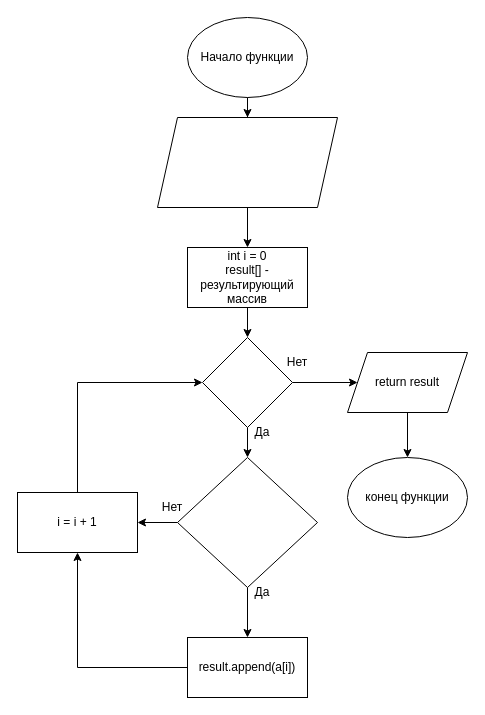
Image size: 485x715. Some labels were removed from this diagram. Each missing label, with the centre of its shape:
a[] - массив строк number - число, ограничивающее кол-во символов: the point at 247,162
a[i].lenght <= number: the point at 247,522
i < a.lenght: the point at 247,382
